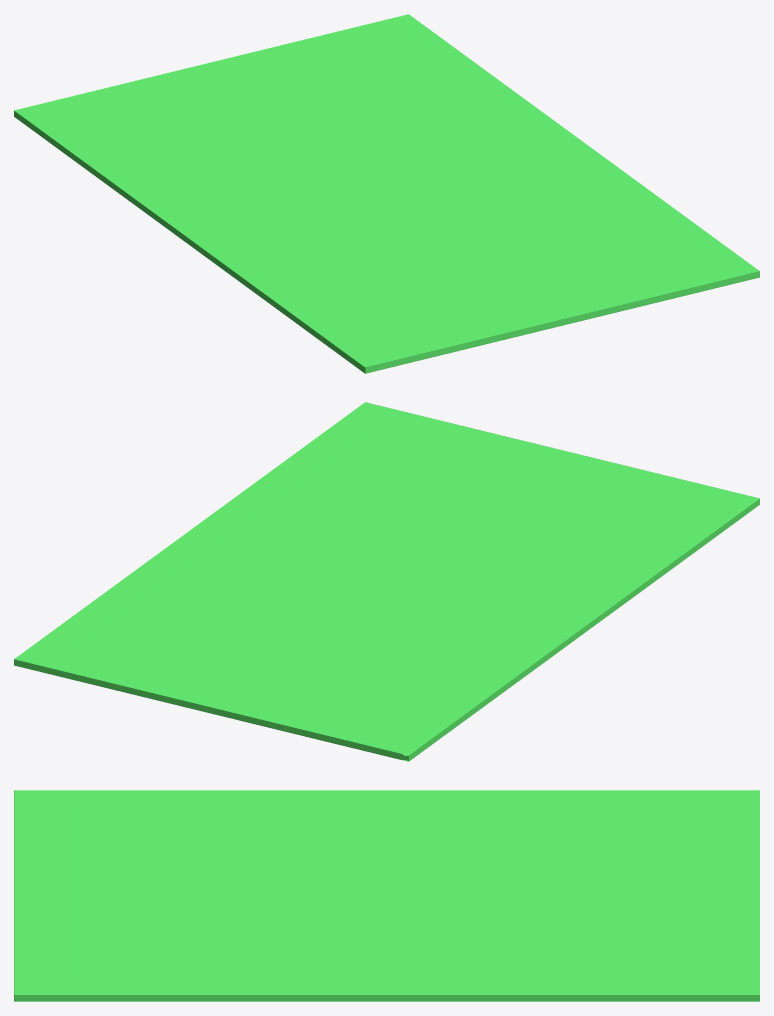
Rendered from Journal.fbx.
3 views of the same model, one above another, from view 1: azimuth 30°, elevation 25°; view 2: azimuth 150°, elevation 25°; view 3: azimuth 270°, elevation 25° (orthographic). The views are drawn at different scales.
Parts seen in each view (by area): view 1: Cube; view 2: Cube; view 3: Cube.
Part boxes in pixels (<box>): Cube: <box>14,14,759,373</box>; Cube: <box>14,402,759,761</box>; Cube: <box>14,790,759,1001</box>.
Bounding box in the file's own units: 130 × 1.95 × 200.
